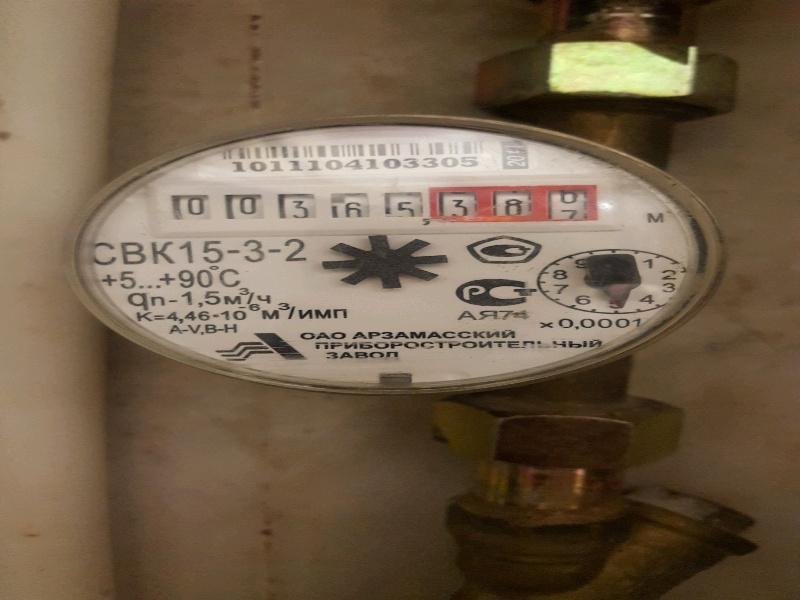meter: (170, 179, 605, 230)
